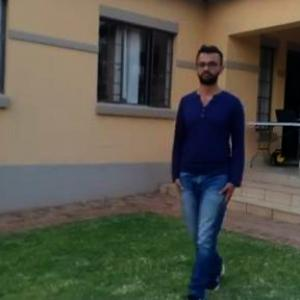follow: (169, 57, 240, 275)
